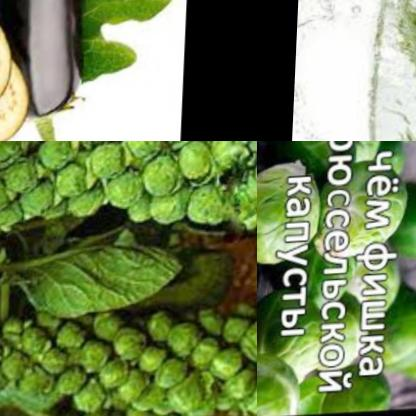brus capusta: (0, 277, 257, 416), (0, 141, 257, 268), (257, 157, 327, 273), (349, 298, 416, 416), (335, 162, 415, 256), (307, 246, 412, 317), (257, 312, 331, 403), (311, 367, 404, 416), (257, 363, 308, 416), (270, 141, 345, 166), (402, 178, 416, 254)
eggplant: (0, 0, 111, 141)
